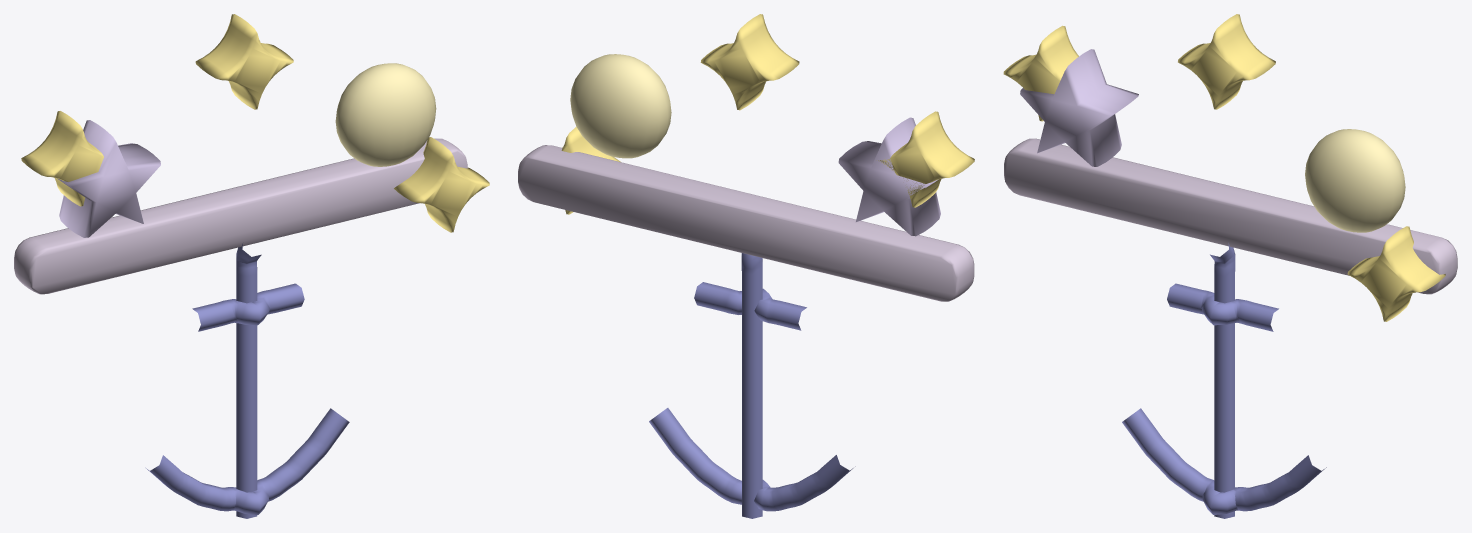
File: decor_5_star.glb
3 renders of one model, left to right at view 1: azimuth 30°, elevation 25°; view 2: azimuth 150°, elevation 25°; view 3: azimuth 330°, elevation 25°, orthographic.
Visible parts, largest first — view 1: decor_5_star; view 2: decor_5_star; view 3: decor_5_star.
Part boxes in pixels (box(x1,y1,x2,y2)): decor_5_star: box(14, 14, 489, 518); decor_5_star: box(518, 14, 974, 518); decor_5_star: box(1003, 14, 1457, 518).
Size of the model in its own units: 8.53 by 9.07 by 1.3.
